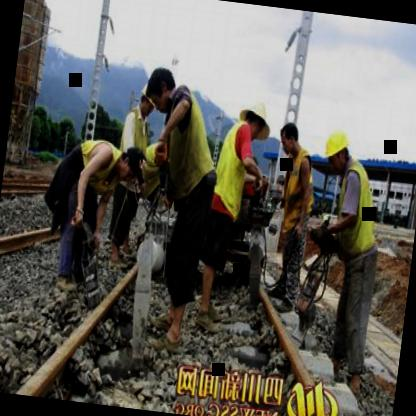head: (142, 61, 178, 116), (112, 141, 148, 188), (276, 117, 300, 158), (242, 100, 266, 140)
helmet: (318, 122, 354, 174)
